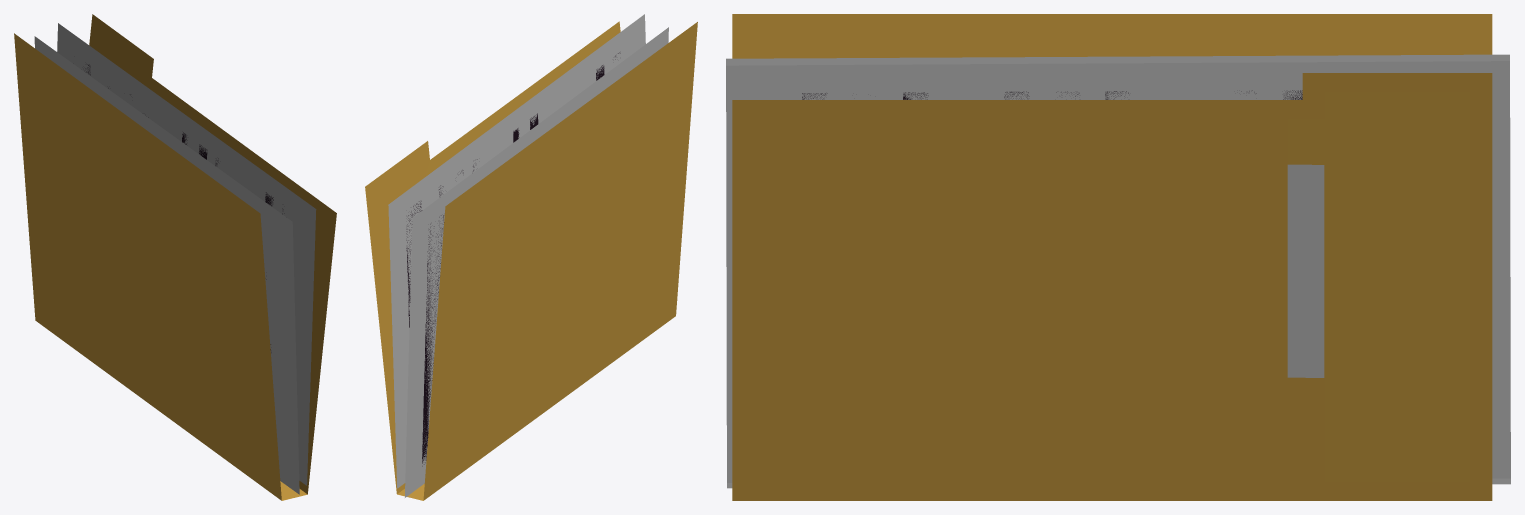
File: Folder.fbx
The picture shows the model from 3 angles, left to right: view 1: azimuth 30°, elevation 25°; view 2: azimuth 150°, elevation 25°; view 3: azimuth 270°, elevation 25°; orthographic projection. The views are drawn at different scales.
Visible parts, largest first — view 1: Folder, Paper, Paper2; view 2: Folder, Paper, Paper2; view 3: Folder, Paper, Paper2.
Boxes of the visible parts, box(x1,y1,x2,y2) form: Folder: box(14, 14, 336, 500); Paper: box(57, 23, 316, 485); Paper2: box(34, 36, 299, 494); Folder: box(365, 21, 697, 500); Paper: box(388, 14, 645, 488); Paper2: box(405, 27, 668, 497); Folder: box(732, 14, 1492, 500); Paper: box(726, 61, 1510, 482); Paper2: box(726, 54, 1510, 488).
Bounding box in the file's own units: 106 × 380 × 598.
